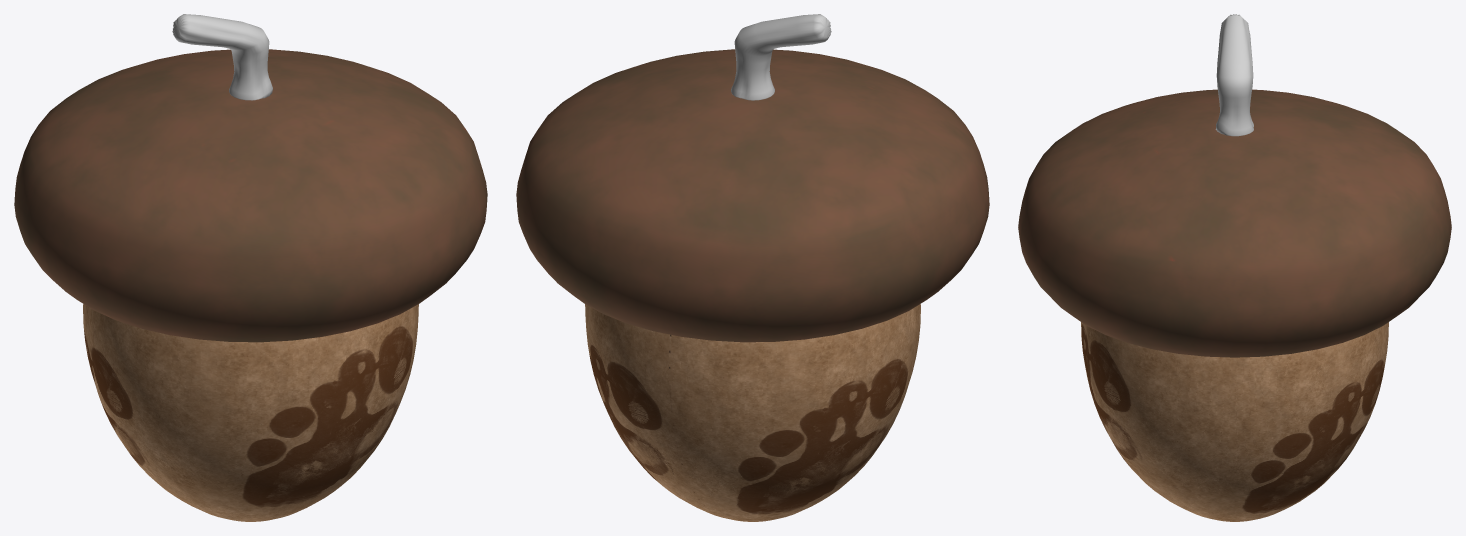
The model's file is Acorn.fbx.
The picture shows the model from 3 angles, left to right: view 1: azimuth 30°, elevation 25°; view 2: azimuth 150°, elevation 25°; view 3: azimuth 270°, elevation 25°; orthographic projection. The views are drawn at different scales.
Parts seen in each view (by area): view 1: polySurface1, polySurface2, Acorn_Stalk; view 2: polySurface1, polySurface2, Acorn_Stalk; view 3: polySurface1, polySurface2, Acorn_Stalk.
Boxes of the visible parts, box(x1,y1,x2,y2) form: polySurface1: box(14, 49, 487, 342); polySurface2: box(83, 304, 418, 521); Acorn_Stalk: box(172, 14, 272, 100); polySurface1: box(516, 49, 989, 342); polySurface2: box(585, 304, 920, 521); Acorn_Stalk: box(731, 14, 831, 100); polySurface1: box(1018, 89, 1451, 357); polySurface2: box(1081, 322, 1388, 521); Acorn_Stalk: box(1215, 14, 1253, 136).
Bounding box in the file's own units: 1.01 × 1.2 × 1.01.
